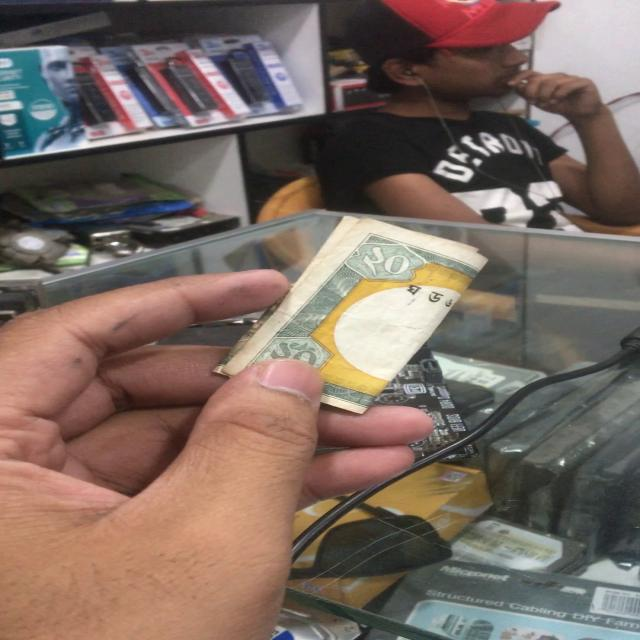Taka: (258, 218, 480, 408)
